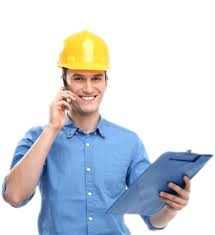Person_wearing_helmet: (56, 28, 114, 80)
